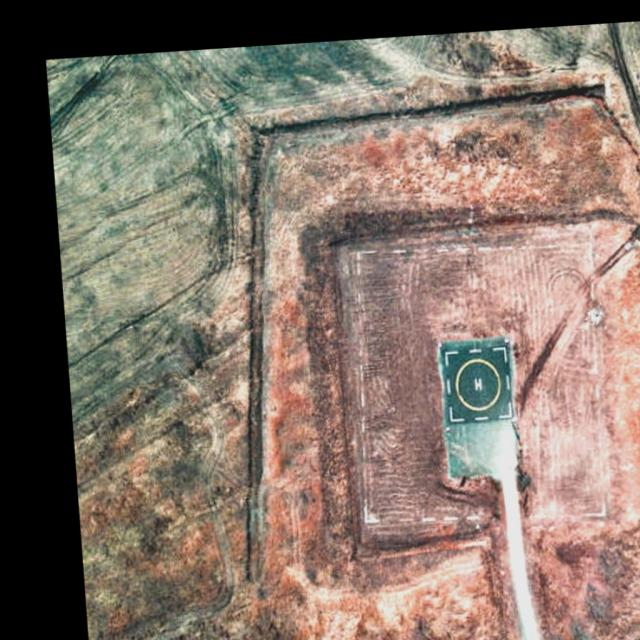helipad: (452, 357, 502, 411)
